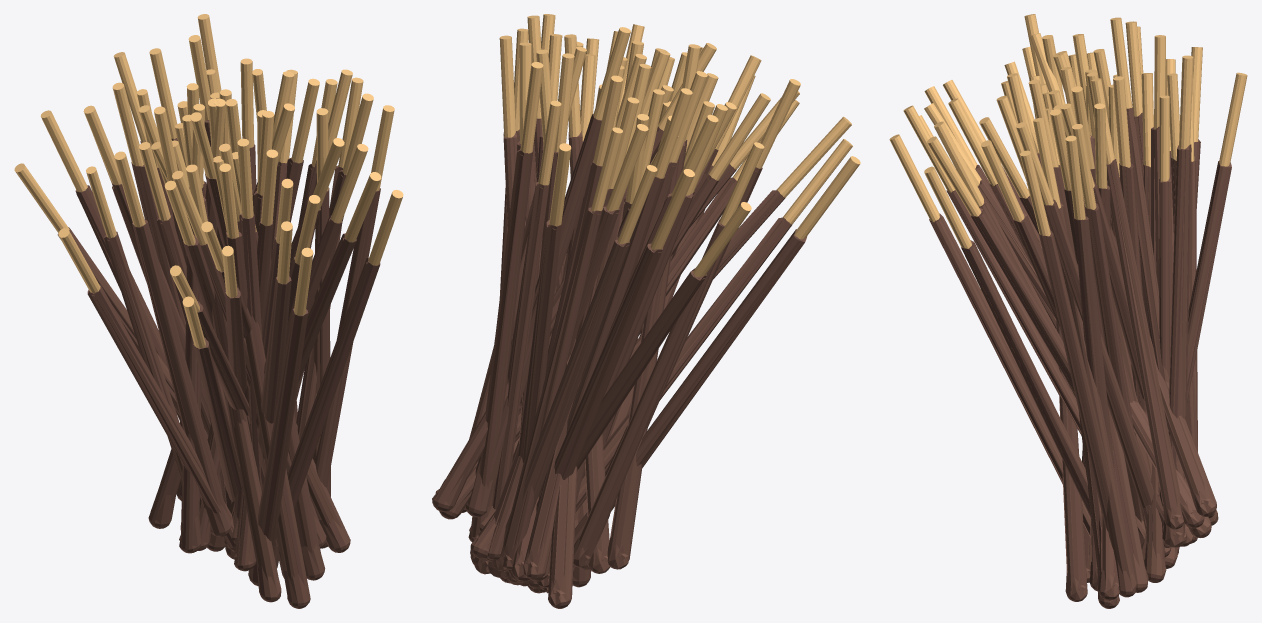
Rendered from pepero.obj.
The picture shows the model from 3 angles, left to right: view 1: azimuth 30°, elevation 25°; view 2: azimuth 150°, elevation 25°; view 3: azimuth 270°, elevation 25°; orthographic projection. The views are drawn at different scales.
Parts seen in each view (by area): view 1: group79542507, group1104856504, group124746491, group1108471782, group2079893596, group1083159349, group1195446701, group1036147999, group351919835, group1227592525, group1203094847, group1516252274 (+5 smaller); view 2: group1108471782, group79542507, group1104856504, group124746491, group1818119326, group1036147999, group1227592525, group2023942371, group1125620381, group211150, group195008281, group351919835 (+3 smaller); view 3: group1108471782, group124746491, group1104856504, group79542507, group2079893596, group1842069358, group1195446701, group535336309, group2023942371, group1125620381, group1516252274, group1818119326 (+5 smaller).
Boxes of the visible parts, <box> form: group79542507: <box>58,69,363,571</box>; group1104856504: <box>40,82,403,580</box>; group124746491: <box>113,48,320,608</box>; group1108471782: <box>164,14,297,559</box>; group2079893596: <box>313,105,394,510</box>; group1083159349: <box>237,138,263,492</box>; group1195446701: <box>312,108,330,548</box>; group1036147999: <box>14,163,208,439</box>; group351919835: <box>83,105,210,433</box>; group1227592525: <box>148,103,294,528</box>; group1203094847: <box>151,141,350,552</box>; group1516252274: <box>286,78,319,222</box>; group1108471782: <box>432,27,852,592</box>; group79542507: <box>470,15,860,573</box>; group1104856504: <box>500,24,694,593</box>; group124746491: <box>485,47,761,588</box>; group1818119326: <box>492,165,657,571</box>; group1036147999: <box>488,202,751,577</box>; group1227592525: <box>548,54,595,608</box>; group2023942371: <box>474,124,648,574</box>; group1125620381: <box>539,53,574,348</box>; group211150: <box>577,71,707,471</box>; group195008281: <box>531,64,651,581</box>; group351919835: <box>541,114,718,489</box>; group1108471782: <box>919,17,1216,557</box>; group124746491: <box>889,35,1247,601</box>; group1104856504: <box>924,21,1215,608</box>; group79542507: <box>1022,14,1148,592</box>; group2079893596: <box>1020,150,1110,531</box>; group1842069358: <box>1016,122,1153,516</box>; group1195446701: <box>1033,118,1136,597</box>; group535336309: <box>1072,124,1143,522</box>; group2023942371: <box>1141,73,1166,582</box>; group1125620381: <box>1113,76,1146,413</box>; group1516252274: <box>1060,103,1144,400</box>; group1818119326: <box>1189,75,1197,543</box>.
Bounding box in the file's own units: 1.3 × 2.14 × 1.28.
